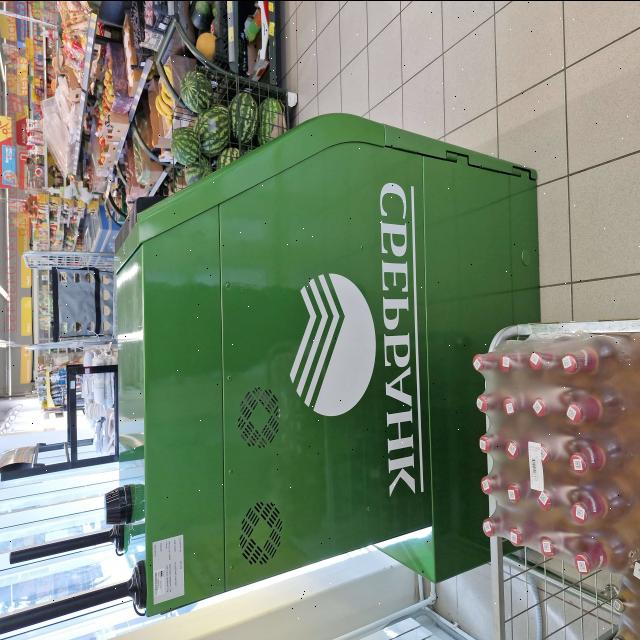bank: (111, 104, 538, 605)
